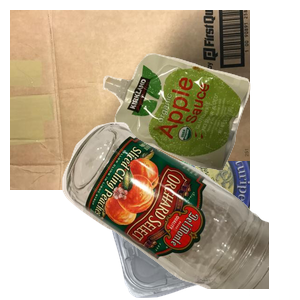cardboard: (10, 10, 250, 190)
glass: (60, 120, 300, 300)
plastic: (23, 161, 263, 300)
trash: (100, 51, 300, 214)
